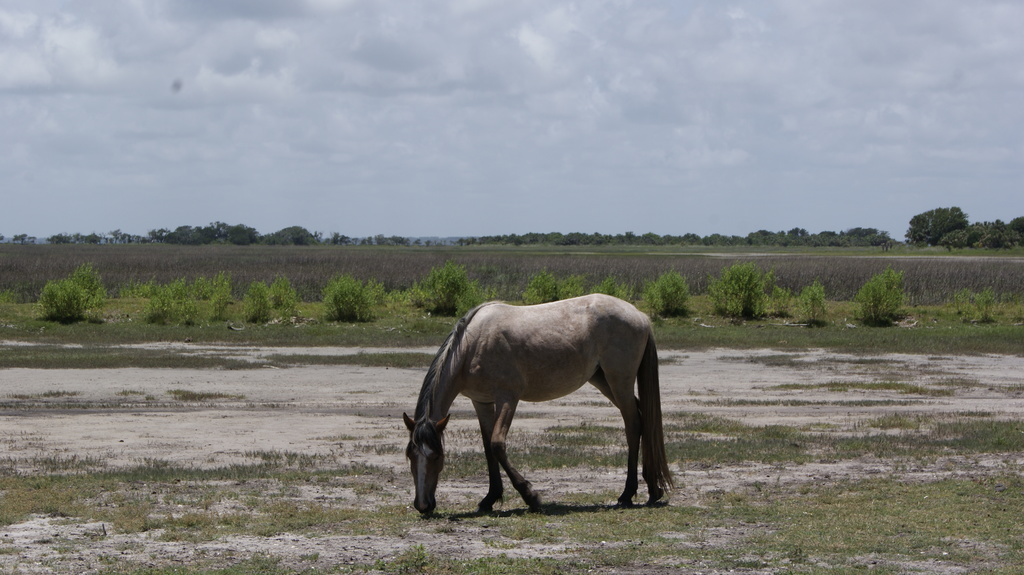horse: (403, 292, 677, 514)
